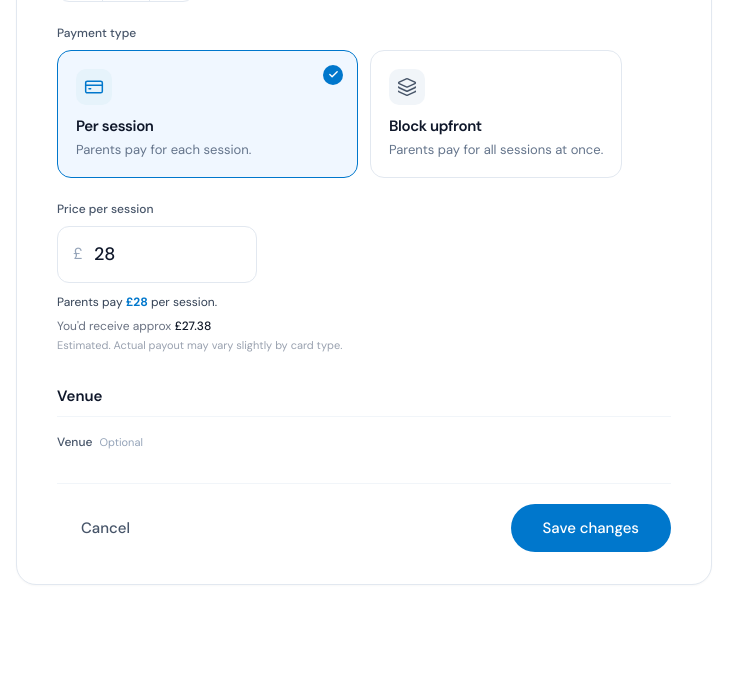
Test: EditProgramme — 409 conflict handling (UX-19) › shows the API 409 message in a prominent banner and disables Save
(page scrolled)
What coordinates should you click on to do the following:
click the button "Save changes"
I would click on:
 (591, 528)
Its box is x1=510 y1=504 x2=671 y2=552.
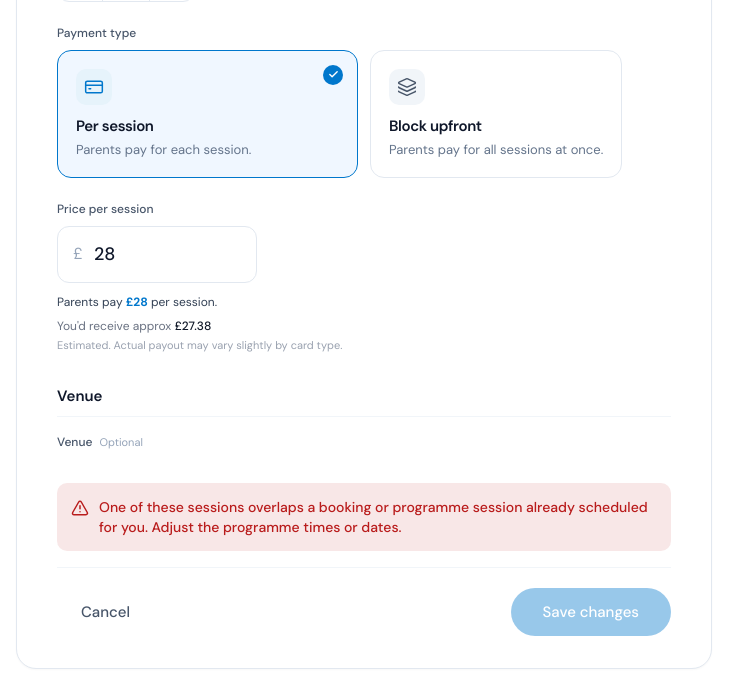
Expected: the text "One of these sessions overlaps a booking or programme session already scheduled for you. Adjust the programme times or d" is shown, x1=99 y1=498 x2=648 y2=536
Expected: the button "Save changes" is disabled, x1=510 y1=588 x2=671 y2=636
